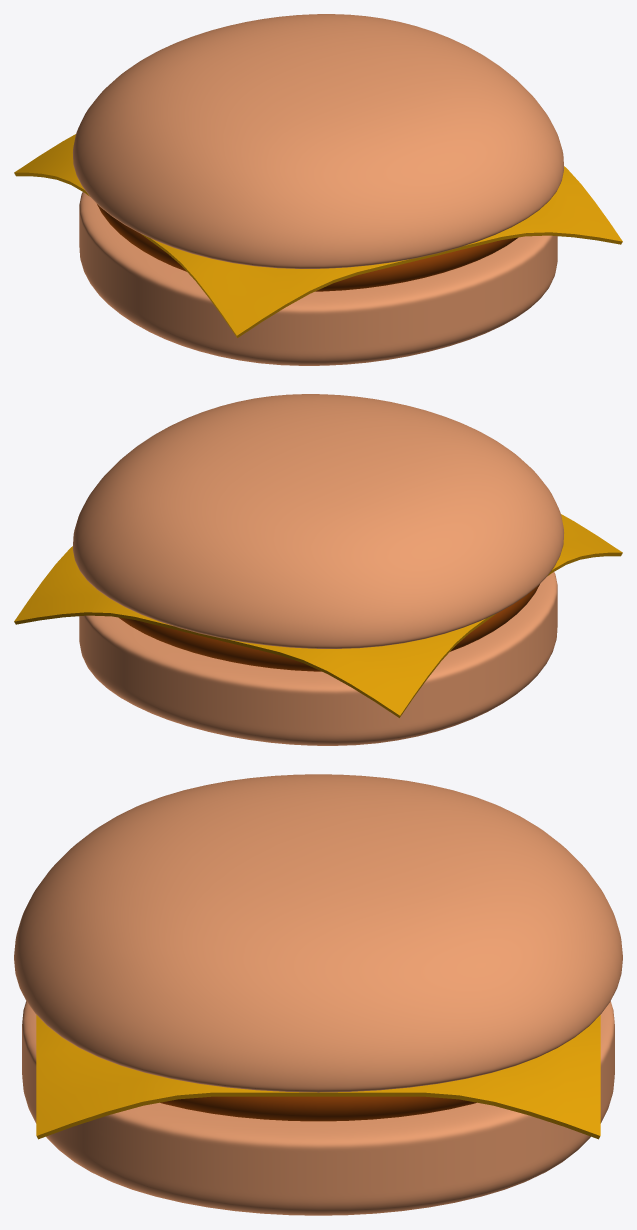
File: hamburger.glb
3 renders of one model, top to bottom at view 1: azimuth 30°, elevation 25°; view 2: azimuth 150°, elevation 25°; view 3: azimuth 270°, elevation 25°, orthographic. The views are drawn at different scales.
Visible parts, largest first — view 1: Cube.002, Cube, Plane, Cube.001; view 2: Cube.002, Cube, Plane, Cube.001; view 3: Cube.002, Cube, Plane, Cube.001.
Boxes of the visible parts, x1,y1,x2,y2 form: Cube.002: (73, 14, 564, 268); Cube: (79, 192, 557, 365); Plane: (14, 134, 622, 337); Cube.001: (97, 204, 518, 291); Cube.002: (72, 394, 563, 648); Cube: (79, 572, 557, 745); Plane: (14, 514, 622, 717); Cube.001: (118, 584, 539, 671); Cube.002: (14, 774, 622, 1092); Cube: (22, 1001, 614, 1215); Plane: (36, 1015, 600, 1139); Cube.001: (160, 1096, 476, 1121).
Bounding box in the file's own units: 9.42 × 4.82 × 9.42.
